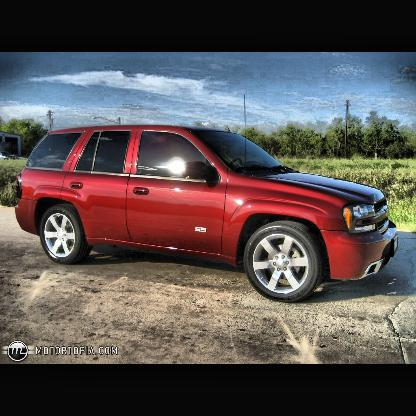Chevrolet TrailBlazer SS 2009: (15, 123, 404, 302)
